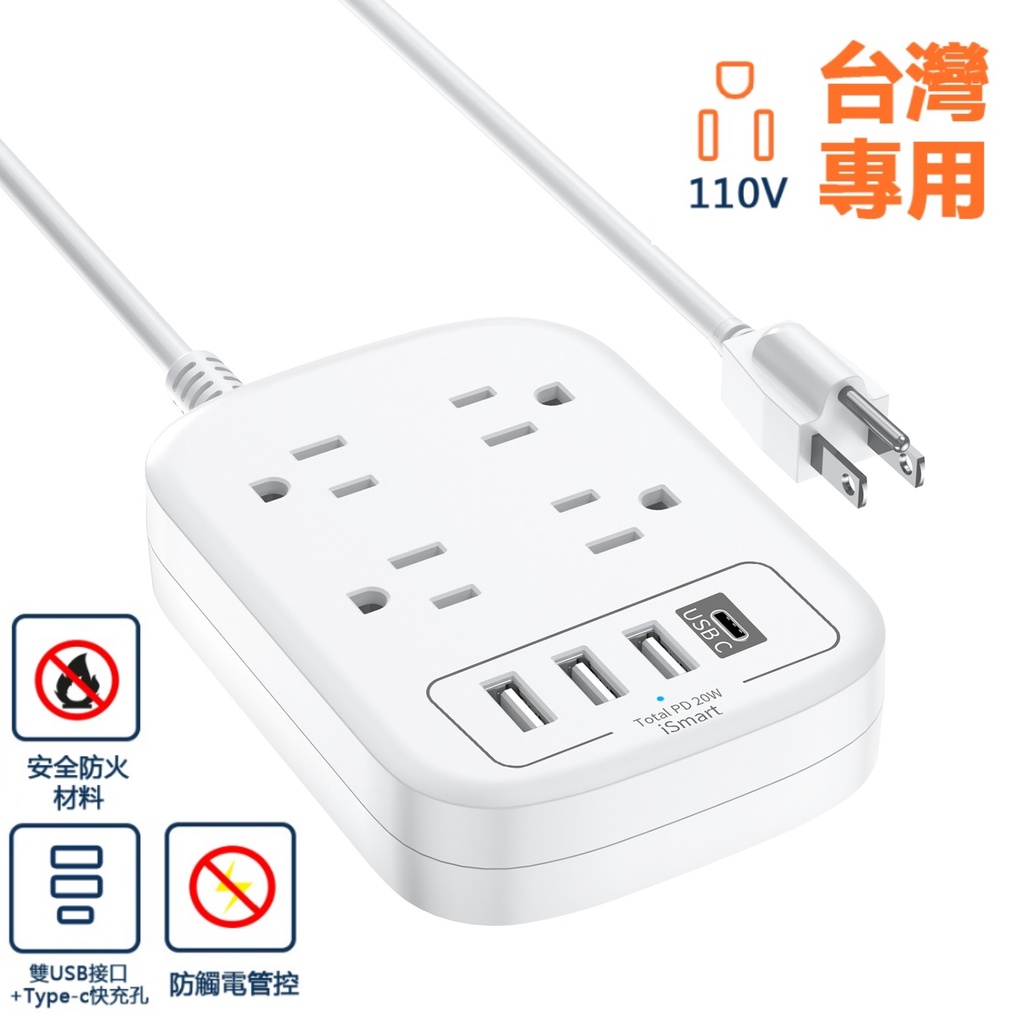socket: (137, 319, 896, 928)
